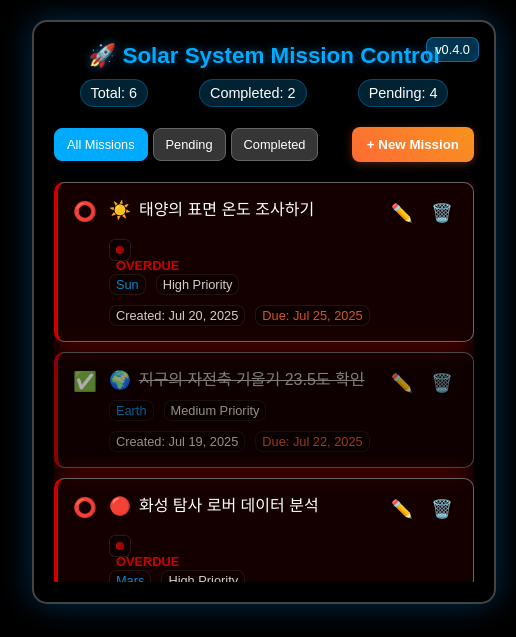
Test: TodoManager › filters todos correctly
Note: Click on "Completed" filter
Click the button "Completed".
click(274, 144)  # box [230,128,318,161]
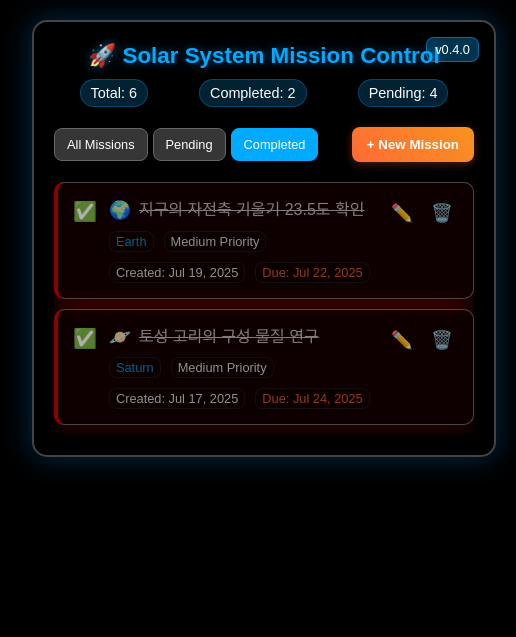
Expected: the text "지구의 자전축 기울기 23.5도 확인" is shown, [139,199,364,222]
Now the text "태양의 표면 온도 조사하기" is gone
